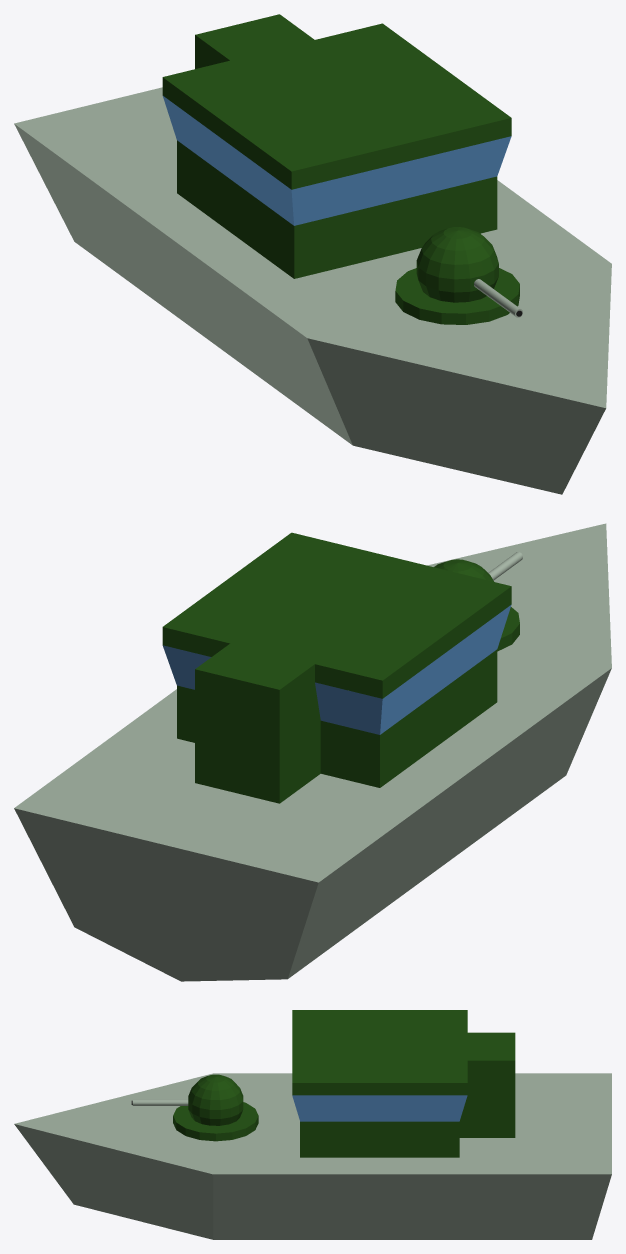
Rendered from combat_ship_1.DiLc0BlG.glb.
3 renders of one model, top to bottom at view 1: azimuth 30°, elevation 25°; view 2: azimuth 150°, elevation 25°; view 3: azimuth 270°, elevation 25°, orthographic. The views are drawn at different scales.
Parts seen in each view (by area): view 1: Cube, Würfel, weapon_head_base, connector; view 2: Cube, Würfel, weapon_head_base; view 3: Cube, Würfel, weapon_head_base, connector, weapon_barrel_base.
Part boxes in pixels (x1=…): Cube: x1=14, y1=87, x2=611, y2=494; Würfel: x1=162, y1=14, x2=511, y2=278; weapon_head_base: x1=416, y1=227, x2=498, y2=302; connector: x1=395, y1=268, x2=519, y2=324; Cube: x1=14, y1=523, x2=611, y2=981; Würfel: x1=162, y1=532, x2=511, y2=803; weapon_head_base: x1=434, y1=559, x2=493, y2=581; Cube: x1=14, y1=1073, x2=611, y2=1239; Würfel: x1=292, y1=1010, x2=515, y2=1157; weapon_head_base: x1=188, y1=1074, x2=243, y2=1125; connector: x1=173, y1=1102, x2=258, y2=1141; weapon_barrel_base: x1=132, y1=1099, x2=188, y2=1105.
Size of the model in its own units: 0.525 by 0.4292 by 1.31.
